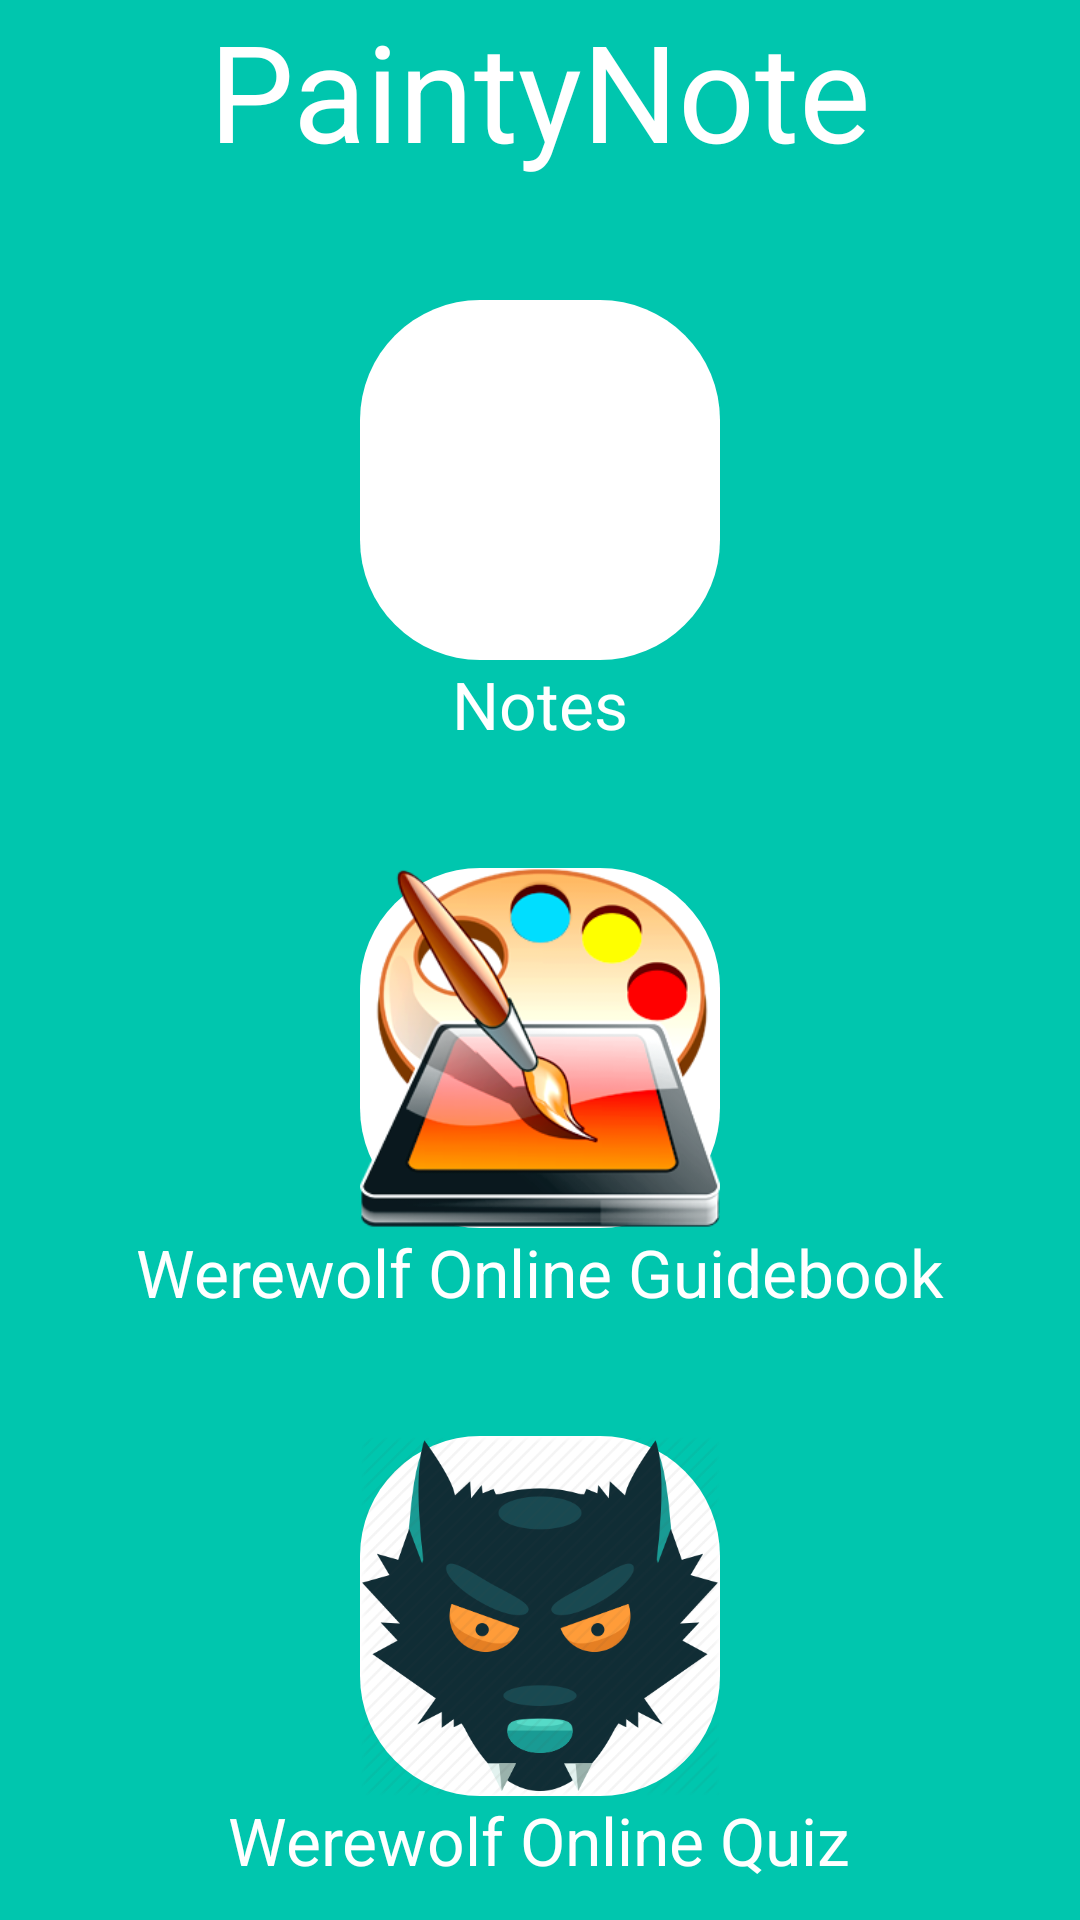

Where icons sit on this 1080 × 1920 app screen, as [left=x1, top=y1, right=x2, bottom=y2]:
paint: [left=360, top=868, right=720, bottom=1228]
